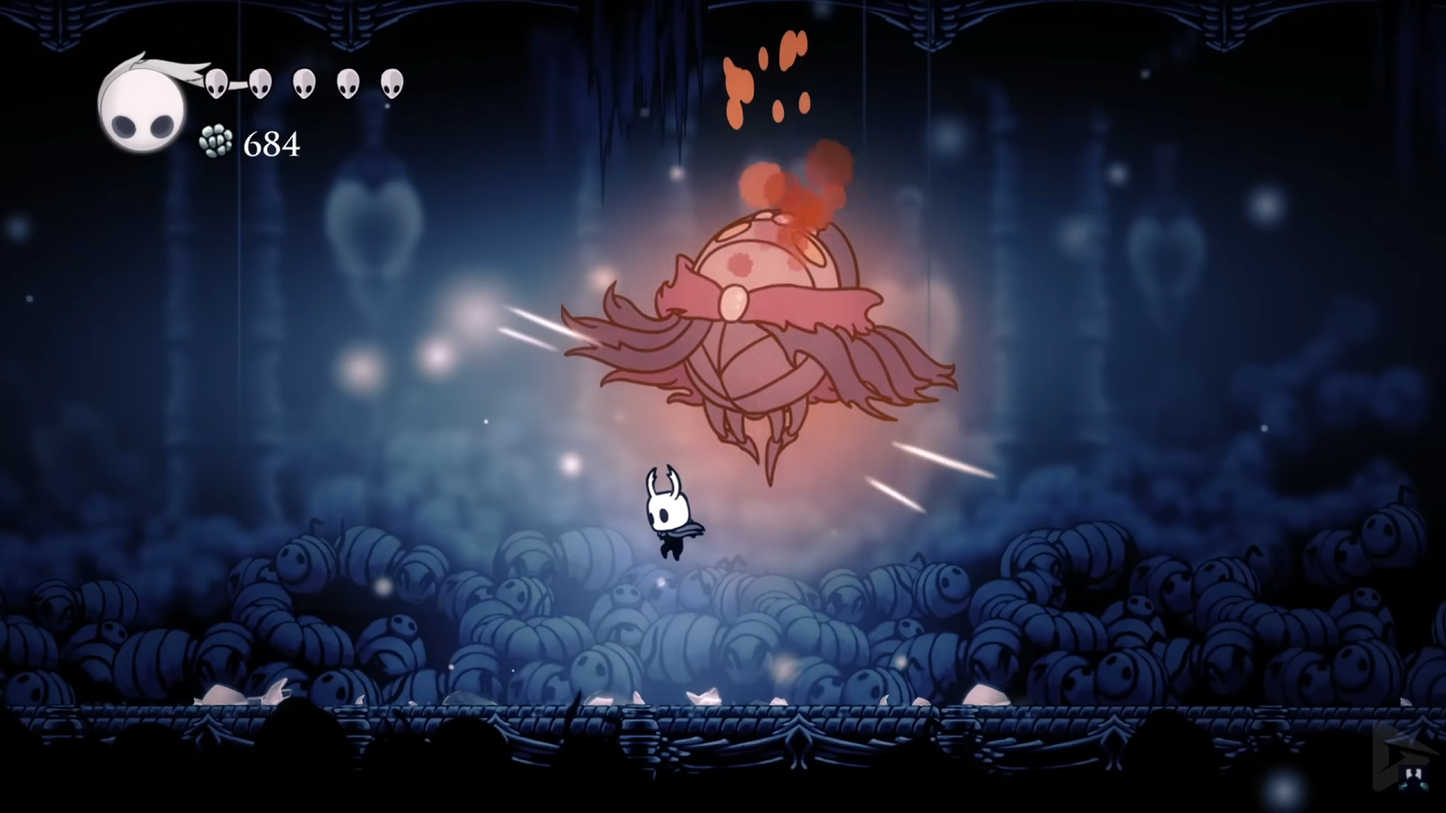HK: (638, 463, 703, 563)
